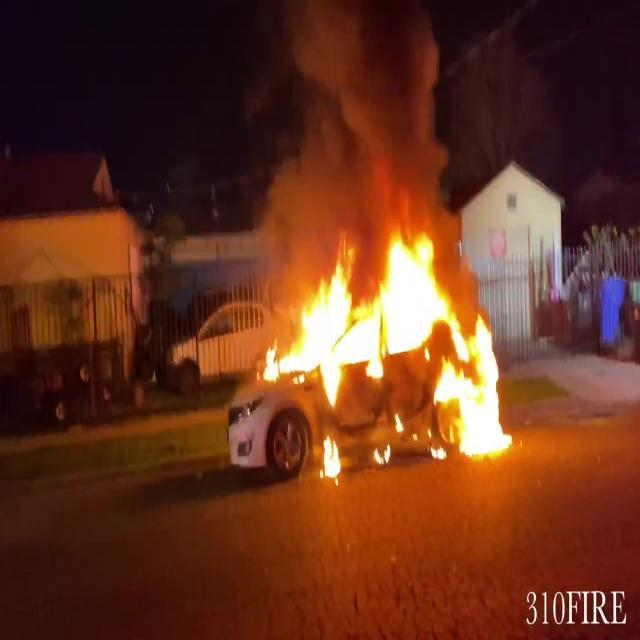Fire: (258, 214, 512, 462), (319, 425, 345, 483)
Smoke: (250, 0, 452, 233)
